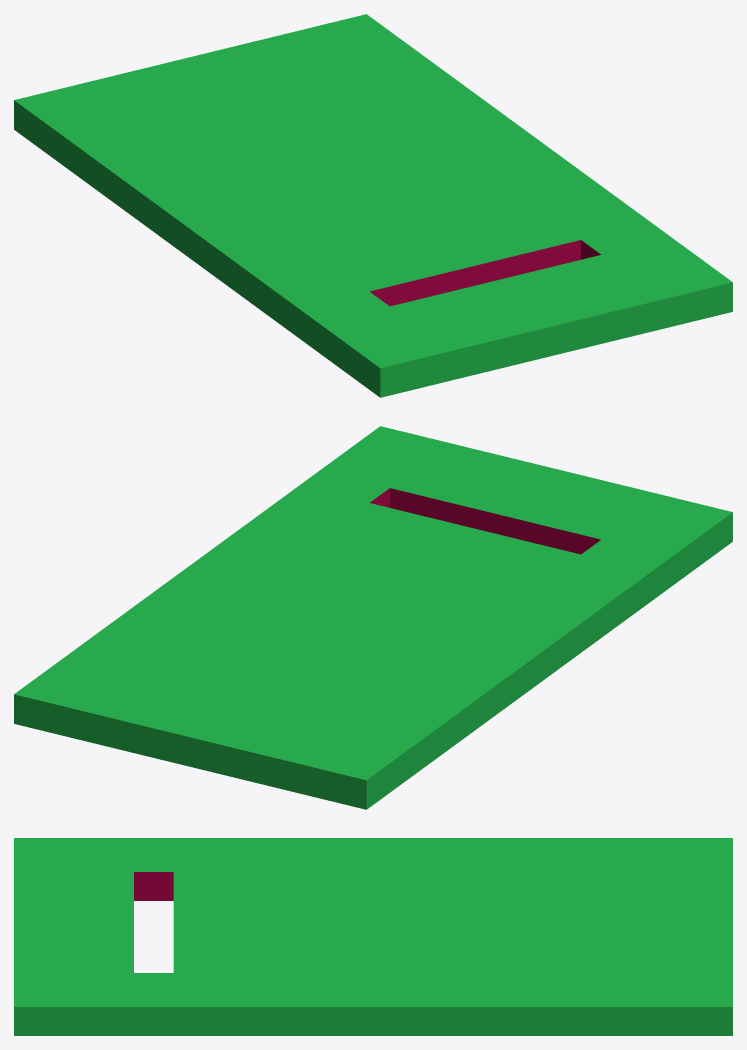
File: apoya-celular.glb
3 views of the same model, one above another, from view 1: azimuth 30°, elevation 25°; view 2: azimuth 150°, elevation 25°; view 3: azimuth 270°, elevation 25° (orthographic).
Bounding box in the file's own units: 0.1 × 0.008 × 0.18.
